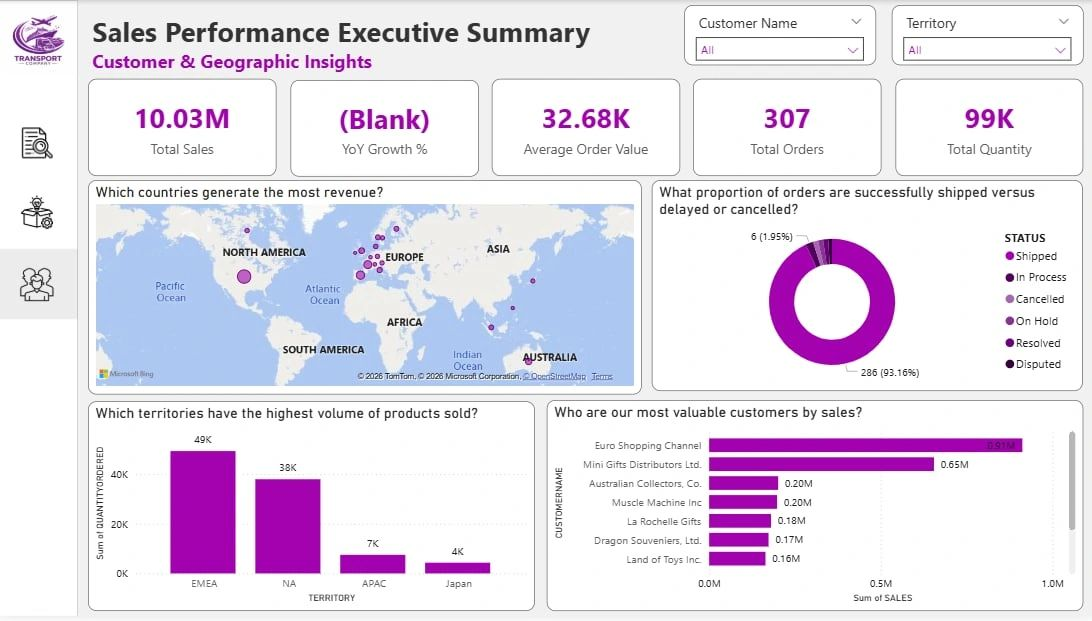

Layout of this report page (visuals, bound fields, positions):
{"tool":"powerbi","page":{"name":"Customer & Geographic Insights","canvas":[1280,720],"ordinal":2},"visuals":[{"type":"shape","box":[0,0,93.3,720],"z":0},{"type":"textbox","box":[105,51.7,346.7,41.7],"z":1000},{"type":"card","fields":{"Values":["_Measures.Total Sales"]},"box":[105.5,92.4,220,113.9],"z":2000},{"type":"card","fields":{"Values":["_Measures.Total Quantity"]},"box":[1047.4,92.4,219.3,114],"z":3000},{"type":"card","fields":{"Values":["_Measures.Total Orders"]},"box":[812,92.4,220,114],"z":4000},{"type":"card","fields":{"Values":["_Measures.Average Order Value"]},"box":[576.5,92.4,220,114],"z":5000},{"type":"textbox","box":[105.3,10.1,631.9,56.3],"z":6000},{"type":"image","box":[0,5.8,93.8,85.1],"z":7000},{"type":"slicer","fields":{"Values":["Fact_Sales.CUSTOMERNAME"]},"box":[800.7,5.8,223.6,70.7],"z":8000},{"type":"slicer","fields":{"Values":["Dim_Customer.TERRITORY"]},"box":[1043.1,5.8,223.6,70.7],"z":9000},{"type":"card","fields":{"Values":["_Measures.YoY Growth %"]},"box":[341,93.1,220,112.5],"z":10000},{"type":"map","title":"Which countries generate the most revenue?","fields":{"Category":["Dim_Customer.COUNTRY"],"Size":["Sum(Fact_Sales.SALES)"]},"box":[105,210,646.7,250],"z":11000},{"type":"clusteredBarChart","title":"Who are our most valuable customers by sales?","fields":{"Category":["Fact_Sales.CUSTOMERNAME"],"Y":["Sum(Fact_Sales.SALES)"]},"box":[640,466.7,626.7,246.7],"z":12000},{"type":"donutChart","title":"What proportion of orders are successfully shipped versus delayed or cancelled?","fields":{"Category":["Fact_Sales.STATUS"],"Y":["Count(Fact_Sales.ORDERNUMBER)"]},"box":[763.3,210,503.3,246.7],"z":13000},{"type":"clusteredColumnChart","title":"Which territories have the highest volume of products sold?","fields":{"Category":["Dim_Customer.TERRITORY"],"Y":["Sum(Fact_Sales.QUANTITYORDERED)"]},"box":[105,468.3,521.7,245],"z":14000},{"type":"image","box":[10.8,228,70.7,40.4],"z":15000},{"type":"image","box":[10.8,311.6,70.7,40.4],"z":16000},{"type":"image","box":[10.8,148.6,70.7,36.1],"z":17000},{"type":"shape","box":[0,290,93.8,82.2],"z":18000}]}

Visuals, with their boxes on the page's 1280x720 design canvas (x1, y1, x2, y2). These are canvas units, not pixel positions in the 1092x621 screenshot, which may show the page scaled, cropped or inside an application window:
shape: bbox=(0, 0, 93, 720)
textbox: bbox=(105, 52, 452, 93)
card - _Measures.Total Sales: bbox=(106, 92, 326, 206)
card - _Measures.Total Quantity: bbox=(1047, 92, 1267, 206)
card - _Measures.Total Orders: bbox=(812, 92, 1032, 206)
card - _Measures.Average Order Value: bbox=(576, 92, 796, 206)
textbox: bbox=(105, 10, 737, 66)
image: bbox=(0, 6, 94, 91)
slicer - Fact_Sales.CUSTOMERNAME: bbox=(801, 6, 1024, 76)
slicer - Dim_Customer.TERRITORY: bbox=(1043, 6, 1267, 76)
card - _Measures.YoY Growth %: bbox=(341, 93, 561, 206)
"Which countries generate the most revenue?" map: bbox=(105, 210, 752, 460)
"Who are our most valuable customers by sales?" clusteredBarChart: bbox=(640, 467, 1267, 713)
"What proportion of orders are successfully shipped versus delayed or cancelled?" donutChart: bbox=(763, 210, 1267, 457)
"Which territories have the highest volume of products sold?" clusteredColumnChart: bbox=(105, 468, 627, 713)
image: bbox=(11, 228, 82, 268)
image: bbox=(11, 312, 82, 352)
image: bbox=(11, 149, 82, 185)
shape: bbox=(0, 290, 94, 372)
